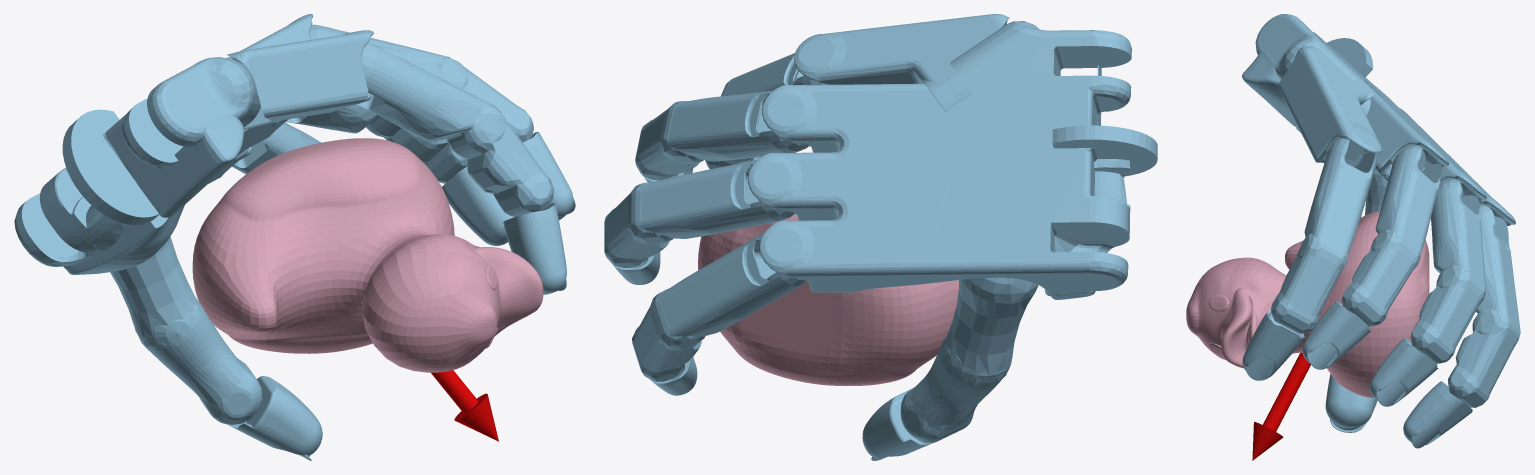
3 views of the same model, side by side, from view 1: azimuth 30°, elevation 25°; view 2: azimuth 150°, elevation 25°; view 3: azimuth 270°, elevation 25° (orthographic). The views are drawn at different scales.
Visible parts, largest first — view 1: world, rubber_duck.stl; view 2: world, rubber_duck.stl; view 3: world, rubber_duck.stl.
Boxes of the visible parts, box(x1,y1,x2,y2) form: world: box(14, 14, 575, 460); rubber_duck.stl: box(192, 138, 543, 372); world: box(604, 14, 1157, 460); rubber_duck.stl: box(698, 213, 958, 385); world: box(1242, 14, 1520, 460); rubber_duck.stl: box(1186, 211, 1429, 397).
Bounding box in the file's own units: 0.1822 × 0.1524 × 0.1319.
